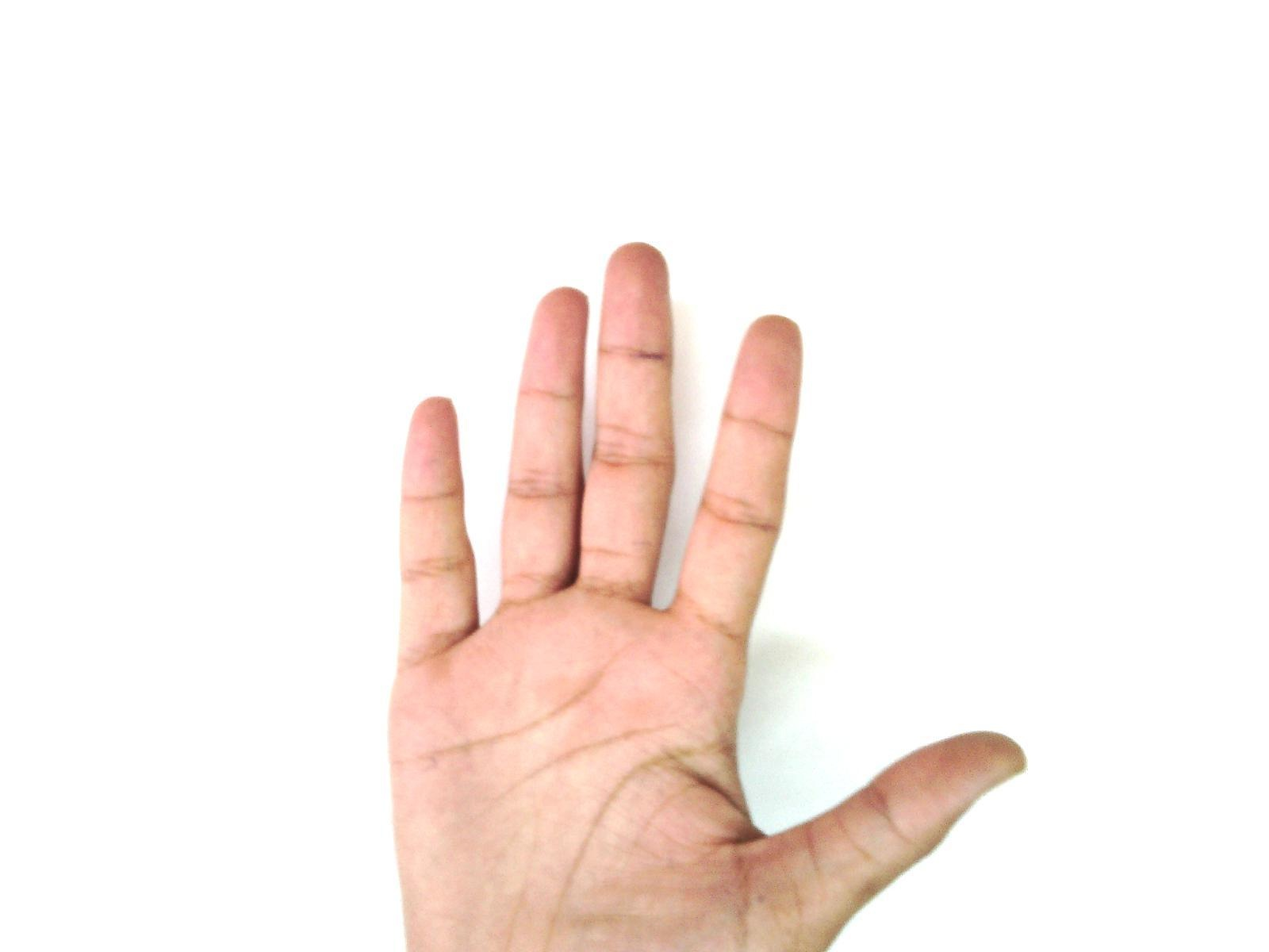open_palm: (383, 241, 1029, 951)
